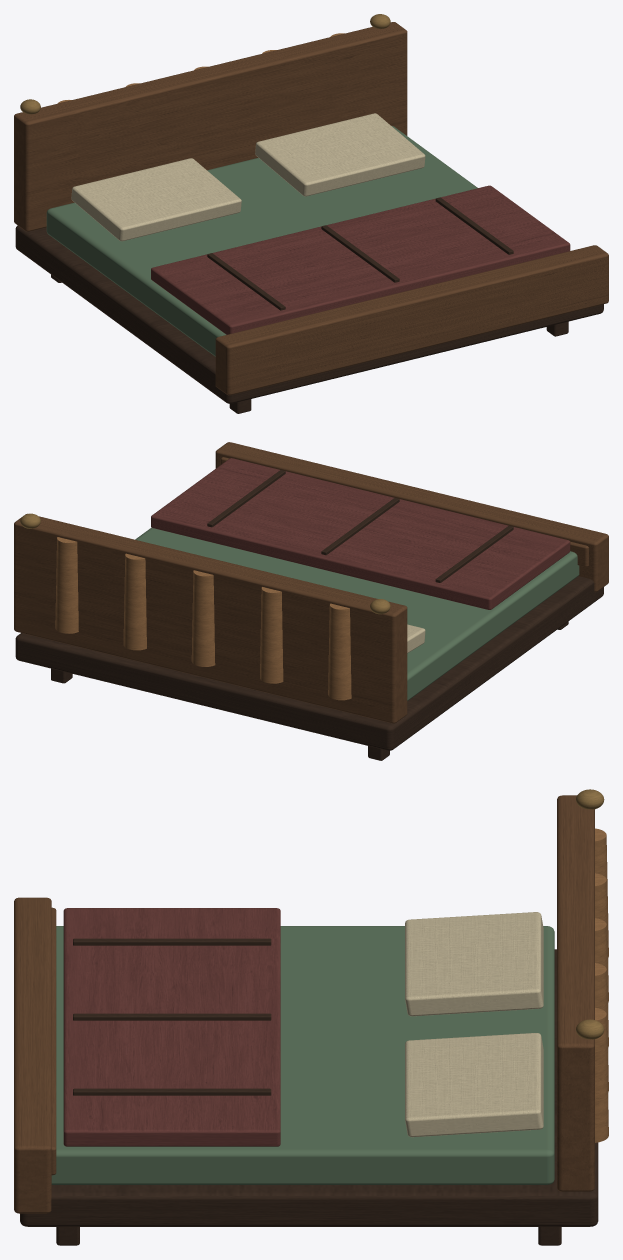
Rendered from double_bed.glb.
3 renders of one model, top to bottom at view 1: azimuth 30°, elevation 25°; view 2: azimuth 150°, elevation 25°; view 3: azimuth 270°, elevation 25°, orthographic. The views are drawn at different scales.
Parts seen in each view (by area): view 1: double_bed; view 2: double_bed; view 3: double_bed.
Boxes of the visible parts, x1,y1,x2,y2 form: double_bed: (14,14,608,413); double_bed: (14,442,608,760); double_bed: (14,789,608,1245).
Size of the model in its own units: 2.8 by 1.2 by 2.8.
Materials: 1 (1 with a texture image).
